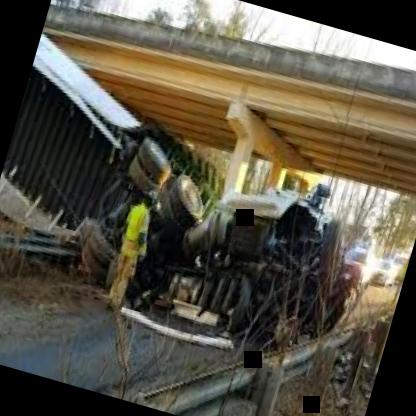accident: (0, 21, 399, 383)
